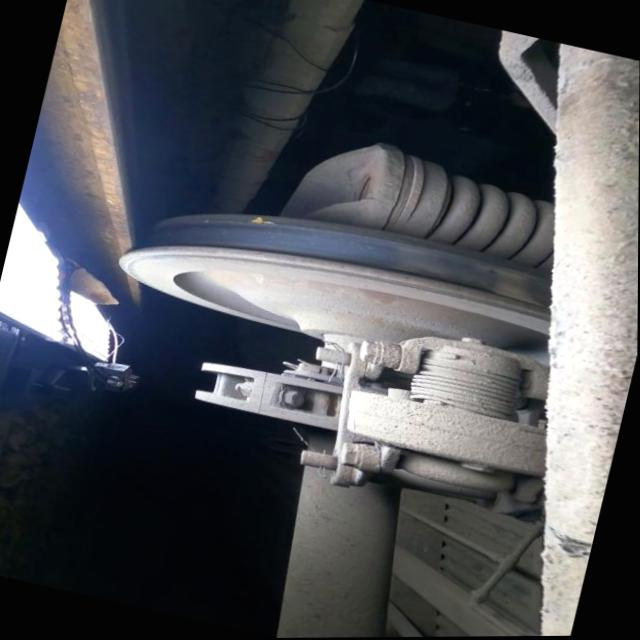Cracks-Scratches: (245, 216, 274, 225)
Shelling: (386, 244, 542, 307)
Wheel: (118, 213, 550, 350)
